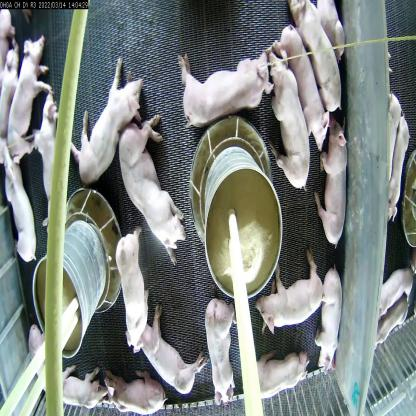Pig: (118, 115, 190, 263), (73, 55, 145, 185), (177, 51, 270, 131), (274, 22, 330, 149), (264, 48, 312, 190), (114, 225, 158, 354), (286, 0, 338, 103), (6, 25, 48, 150), (23, 90, 69, 203), (311, 121, 352, 246), (201, 294, 241, 415), (255, 269, 333, 330), (139, 319, 195, 401), (0, 141, 37, 260), (246, 352, 311, 415), (311, 256, 345, 368), (40, 357, 104, 415), (88, 369, 157, 415)
